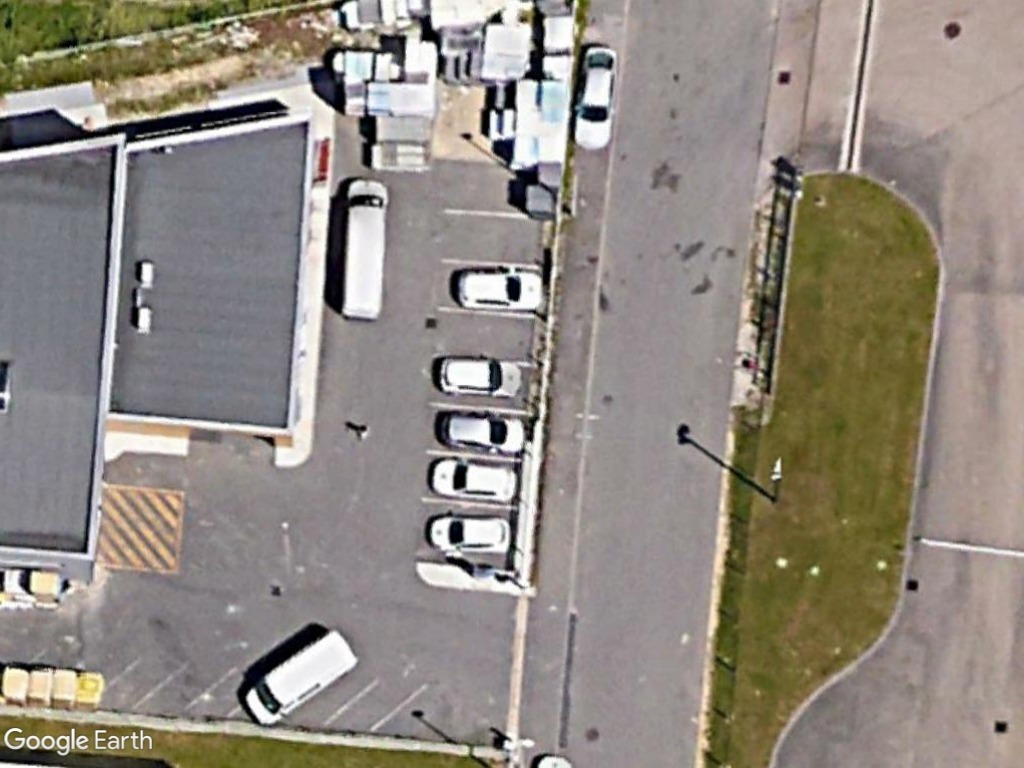car: (572, 45, 619, 156), (425, 454, 520, 505), (455, 264, 547, 314), (424, 510, 514, 560), (434, 354, 527, 400), (436, 411, 529, 457)
van: (241, 625, 365, 728), (336, 175, 391, 324)
